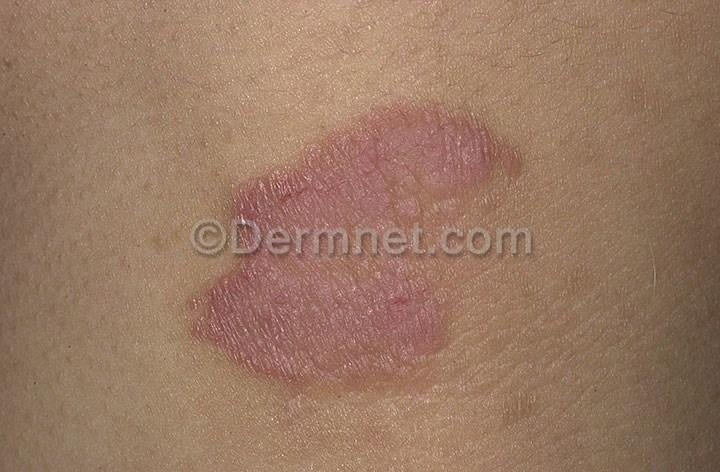Eczema: (179, 257, 526, 423), (207, 77, 547, 226)
